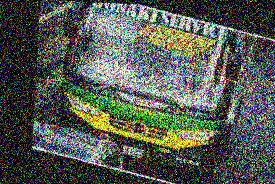bus: (39, 0, 259, 184)
